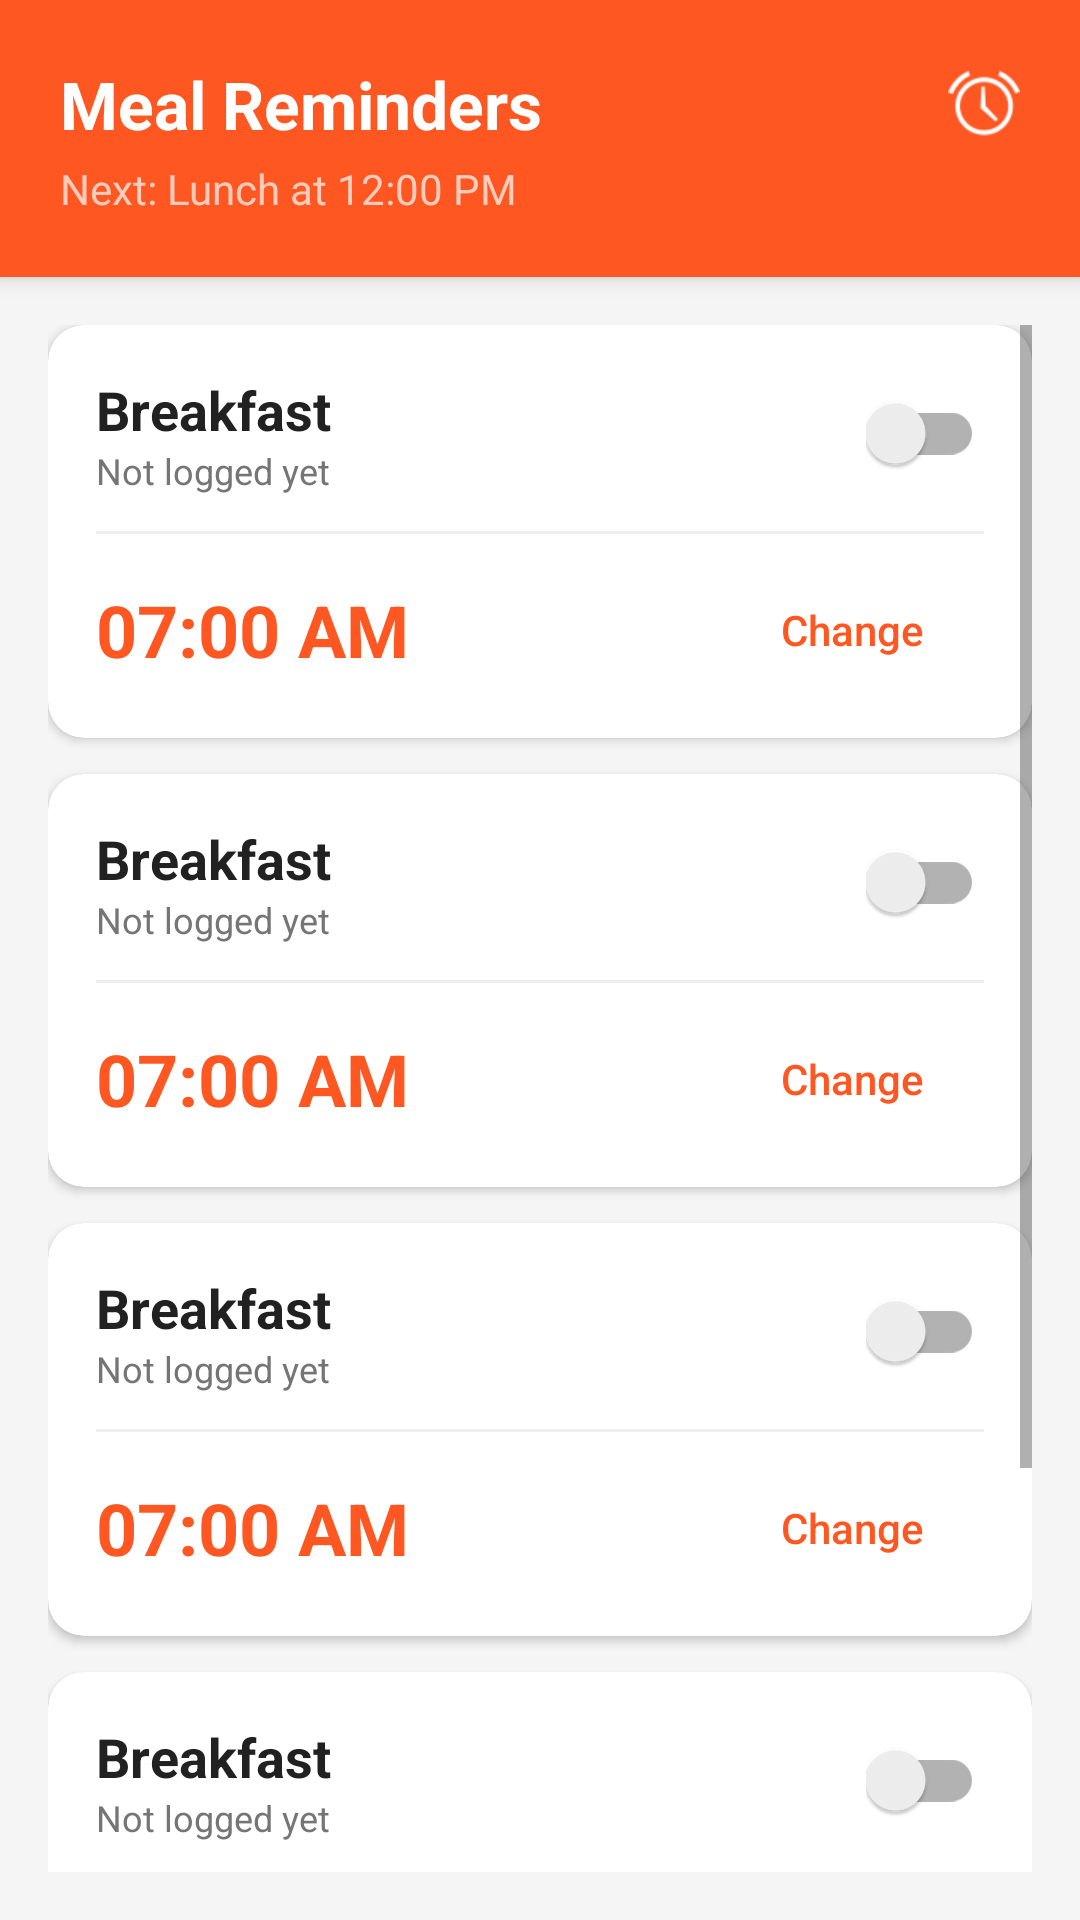

Icons on this 1080 x 1920 Android screen, each with the point to tap as (x=x, y=y):
lock idle alarm: (x=984, y=103)
